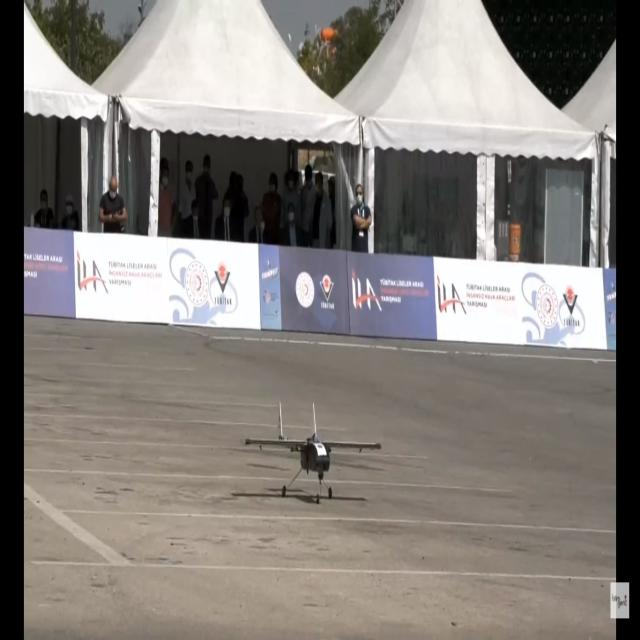iha: (245, 433, 379, 475)
